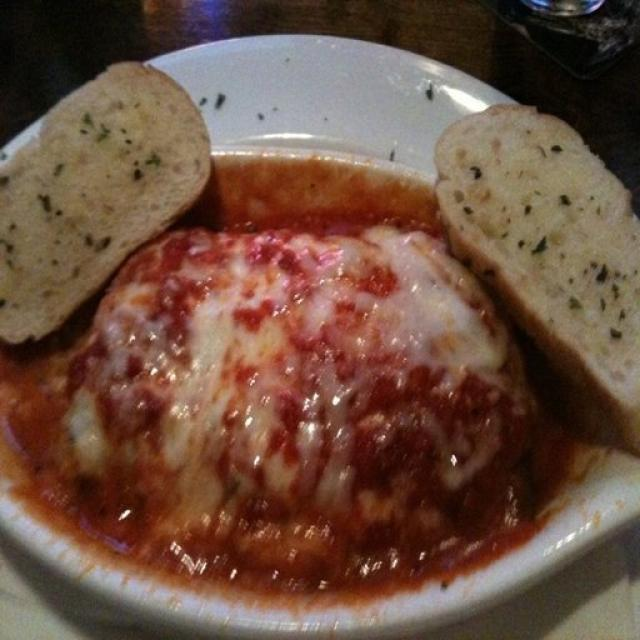Lasagna: (108, 224, 508, 525)
